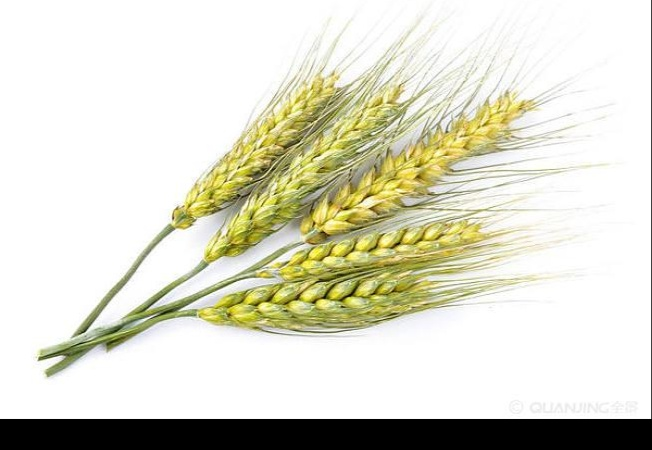wheat: (193, 95, 394, 263), (295, 102, 529, 241), (169, 67, 348, 221), (256, 214, 505, 280), (188, 274, 448, 330)
